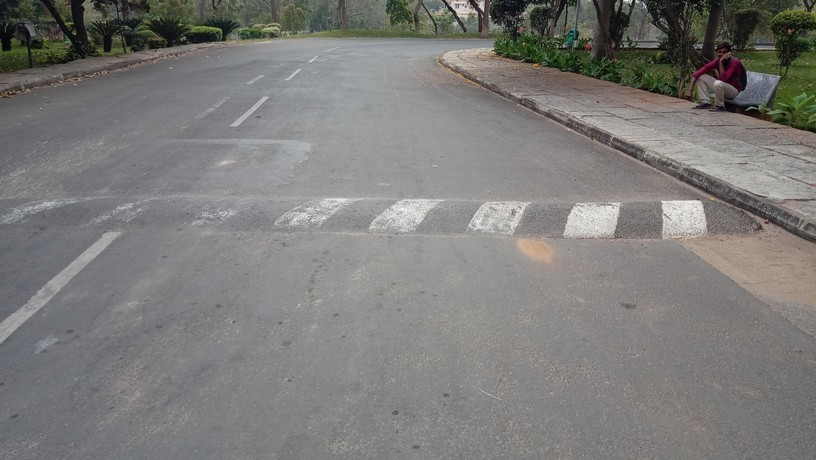bump: (1, 194, 775, 241)
